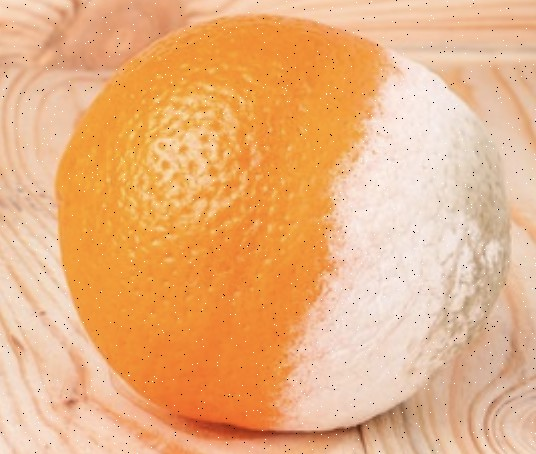rotten_orange: (57, 13, 510, 432)
